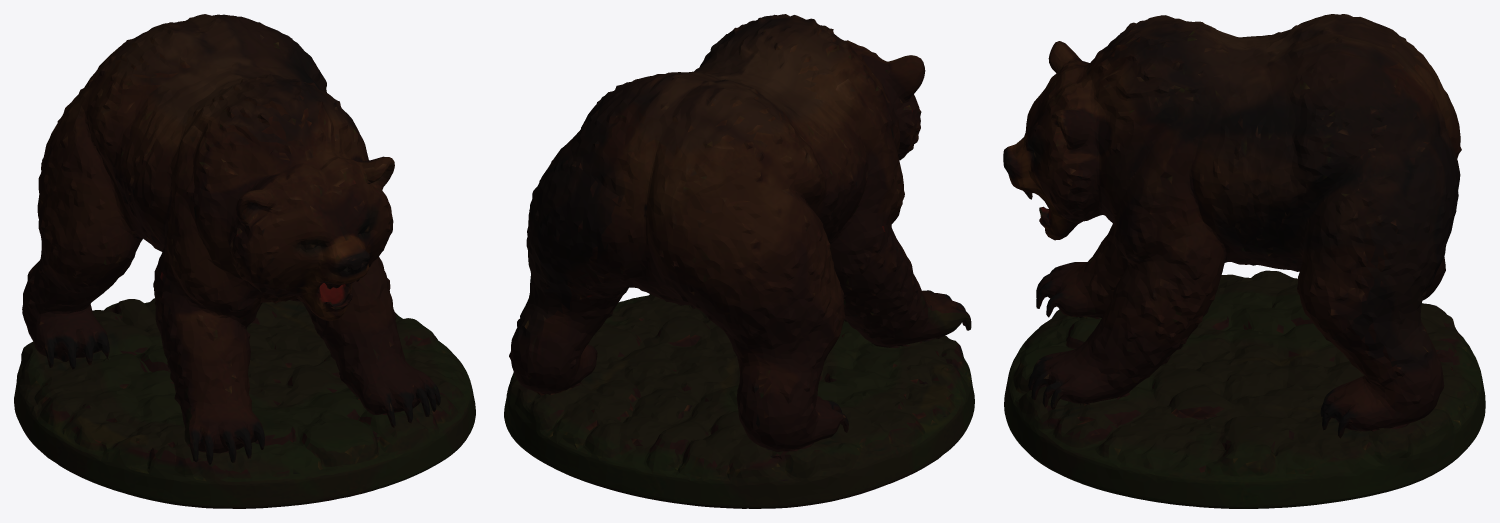
Rendered from urso_pardo.glb.
The picture shows the model from 3 angles, left to right: view 1: azimuth 30°, elevation 25°; view 2: azimuth 150°, elevation 25°; view 3: azimuth 270°, elevation 25°; orthographic projection. The views are drawn at different scales.
Visible parts, largest first — view 1: tmpnlwr28io.ply; view 2: tmpnlwr28io.ply; view 3: tmpnlwr28io.ply.
Boxes of the visible parts, bbox=[...] form: tmpnlwr28io.ply: bbox=[14, 14, 475, 508]; tmpnlwr28io.ply: bbox=[504, 14, 974, 508]; tmpnlwr28io.ply: bbox=[1003, 14, 1485, 508].
Size of the model in its own units: 1.96 by 1.7 by 1.96.
1 material, 1 textured.
